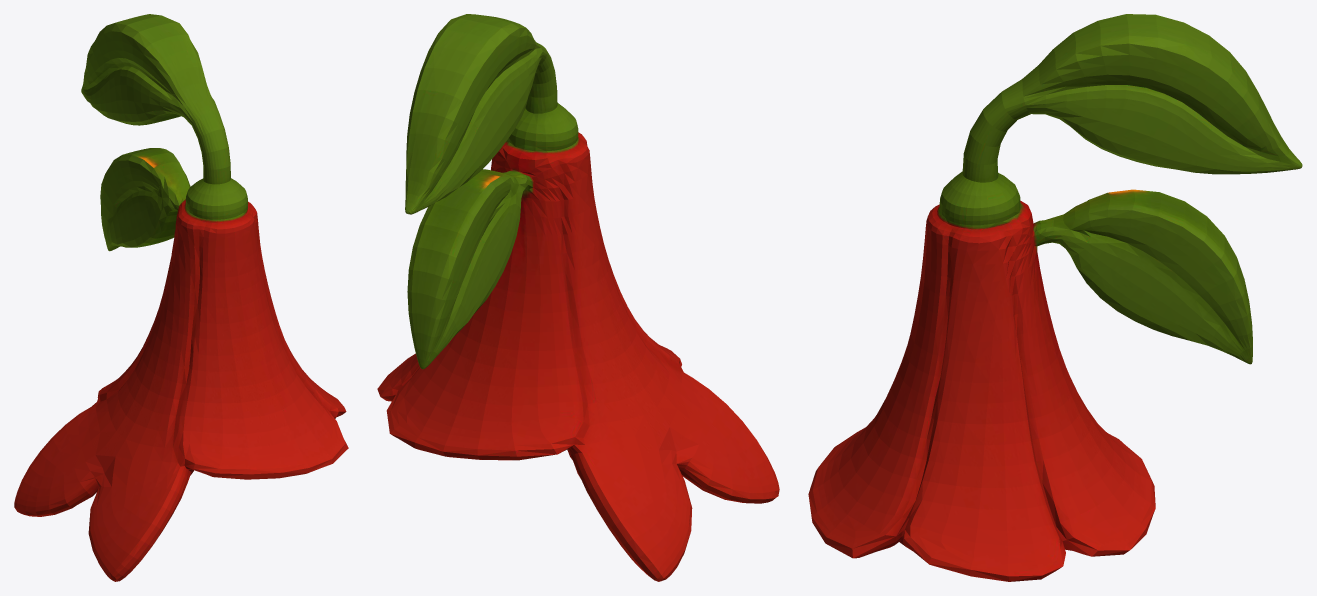
Rendered from copihue_rojo.glb.
3 views of the same model, side by side, from view 1: azimuth 30°, elevation 25°; view 2: azimuth 150°, elevation 25°; view 3: azimuth 270°, elevation 25° (orthographic). The views are drawn at different scales.
Parts seen in each view (by area): view 1: tripo_node_547f3ff7-94a0-45ca-9e62-67e79ec0dd9d; view 2: tripo_node_547f3ff7-94a0-45ca-9e62-67e79ec0dd9d; view 3: tripo_node_547f3ff7-94a0-45ca-9e62-67e79ec0dd9d.
Part boxes in pixels (<box>): tripo_node_547f3ff7-94a0-45ca-9e62-67e79ec0dd9d: <box>14,14,348,581</box>; tripo_node_547f3ff7-94a0-45ca-9e62-67e79ec0dd9d: <box>377,14,779,581</box>; tripo_node_547f3ff7-94a0-45ca-9e62-67e79ec0dd9d: <box>808,14,1302,581</box>.
Size of the model in its own units: 0.6429 by 0.9993 by 0.7715.
1 material, 1 textured.
